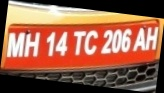character: (7, 31, 24, 57), (23, 32, 40, 57), (83, 29, 98, 54), (131, 26, 145, 52), (145, 25, 159, 50), (54, 30, 67, 56), (72, 30, 85, 56), (100, 28, 112, 54), (111, 28, 122, 53), (45, 30, 55, 57), (120, 28, 131, 52)
